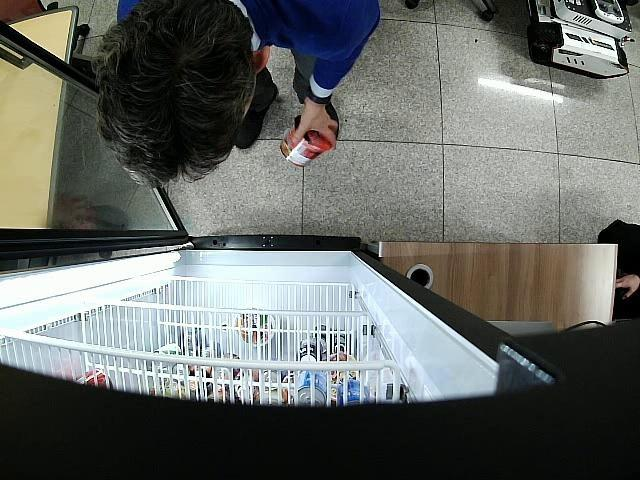01_ShinRamen_L: (280, 116, 334, 168)
